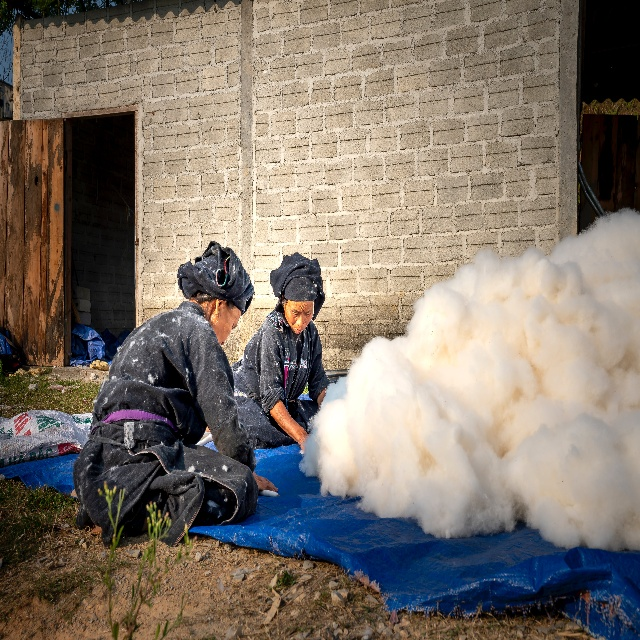Sin_guantes: (255, 473, 279, 495)
